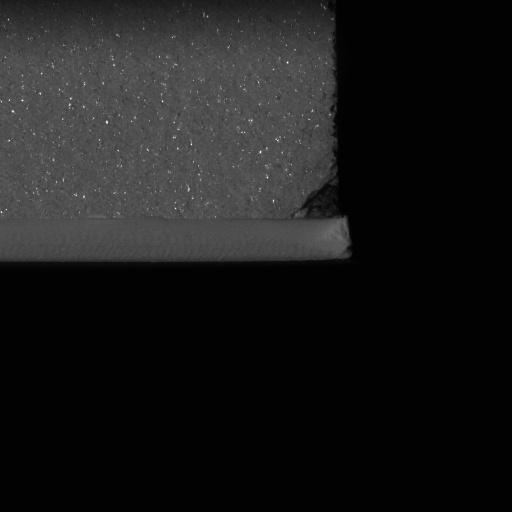bengque: (294, 170, 350, 227)
